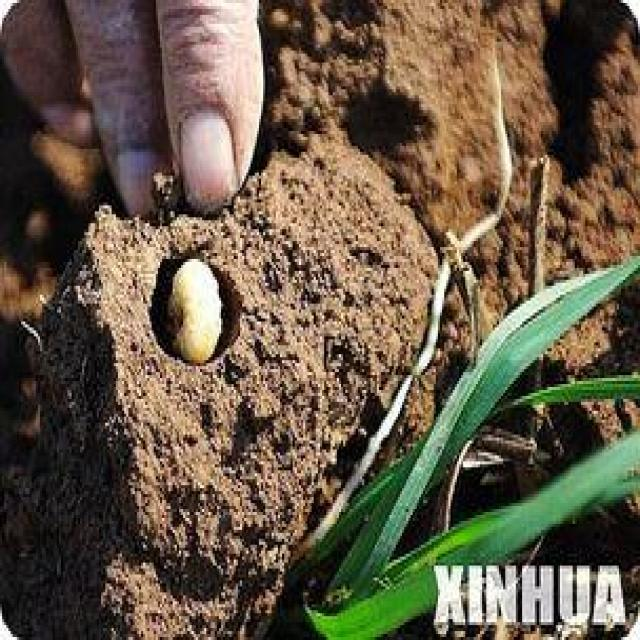Grub-Adult-: (169, 252, 233, 378)
